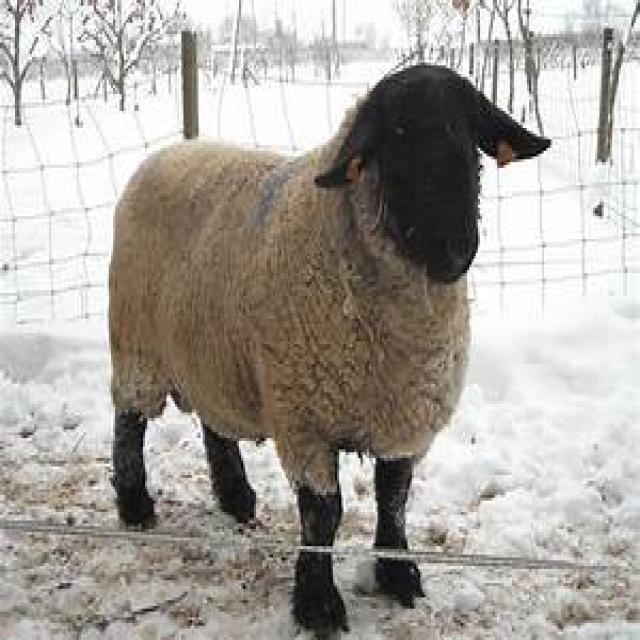sheep: (104, 60, 550, 637)
